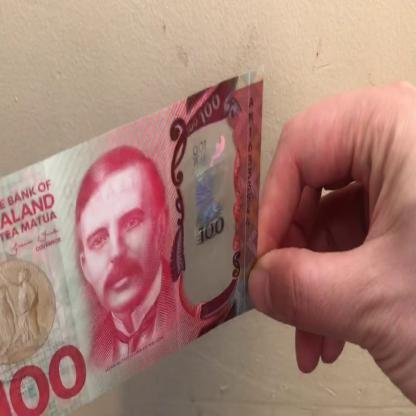100F: (190, 130, 230, 291)
